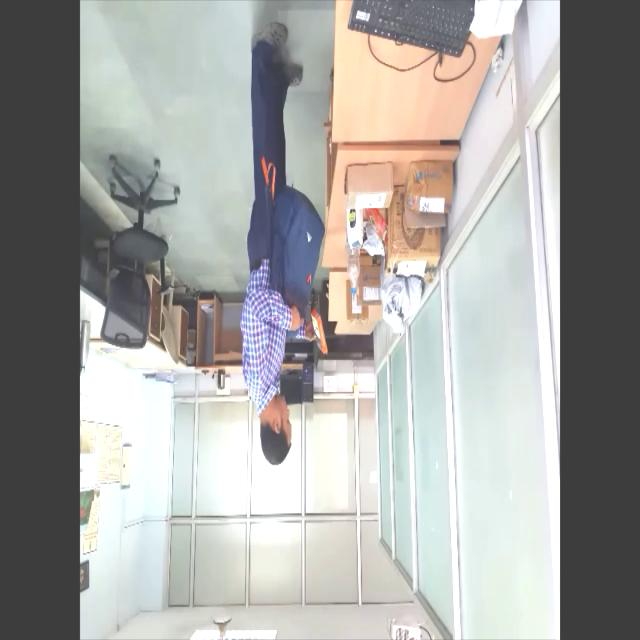shoplifting: (234, 5, 330, 478)
